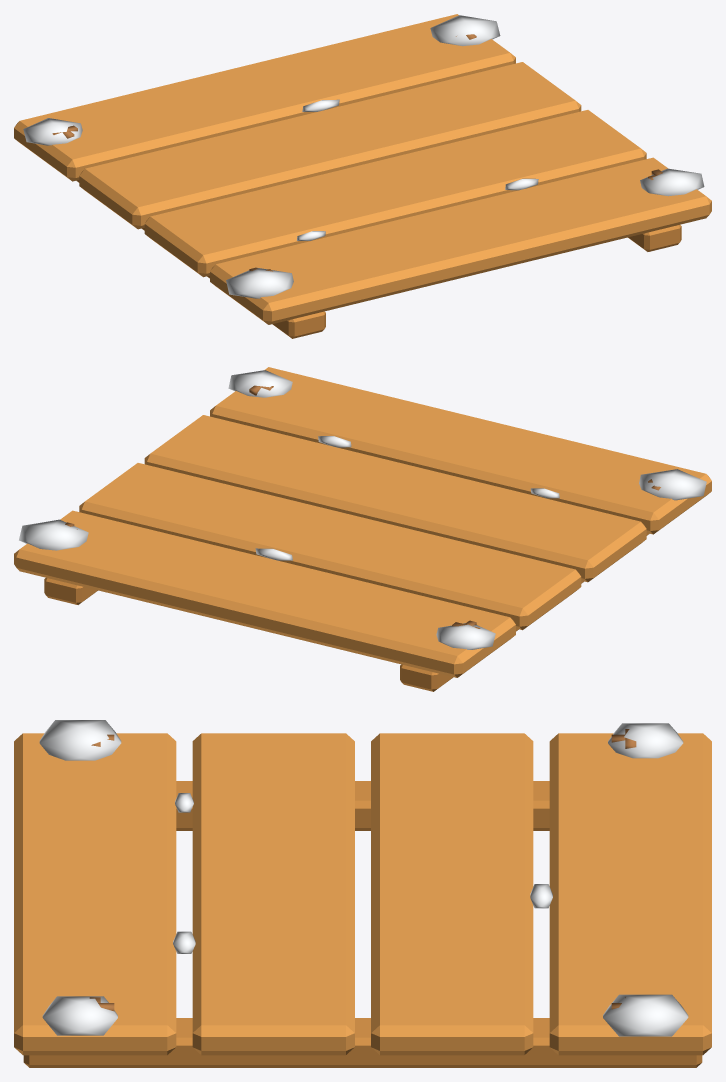
Rendered from Plate_Wood.glb.
3 renders of one model, top to bottom at view 1: azimuth 30°, elevation 25°; view 2: azimuth 150°, elevation 25°; view 3: azimuth 270°, elevation 25°, orthographic. The views are drawn at different scales.
Parts seen in each view (by area): view 1: Plate_Wood_Planks, Plate_Wood_Snow, Plate_Wood_Beams; view 2: Plate_Wood_Planks, Plate_Wood_Snow, Plate_Wood_Beams; view 3: Plate_Wood_Planks, Plate_Wood_Beams, Plate_Wood_Snow.
Boxes of the visible parts, left/top/right/bottom form: Plate_Wood_Planks: left=14, top=14, right=711, bottom=324; Plate_Wood_Snow: left=23, top=15, right=704, bottom=298; Plate_Wood_Beams: left=76, top=180, right=681, bottom=338; Plate_Wood_Planks: left=14, top=367, right=711, bottom=677; Plate_Wood_Snow: left=19, top=370, right=706, bottom=649; Plate_Wood_Beams: left=44, top=533, right=649, bottom=691; Plate_Wood_Planks: left=14, top=733, right=711, bottom=1055; Plate_Wood_Beams: left=23, top=781, right=702, bottom=1067; Plate_Wood_Snow: left=39, top=720, right=688, bottom=1036.
Bounding box in the file's own units: 1.01 × 0.113 × 0.946.
